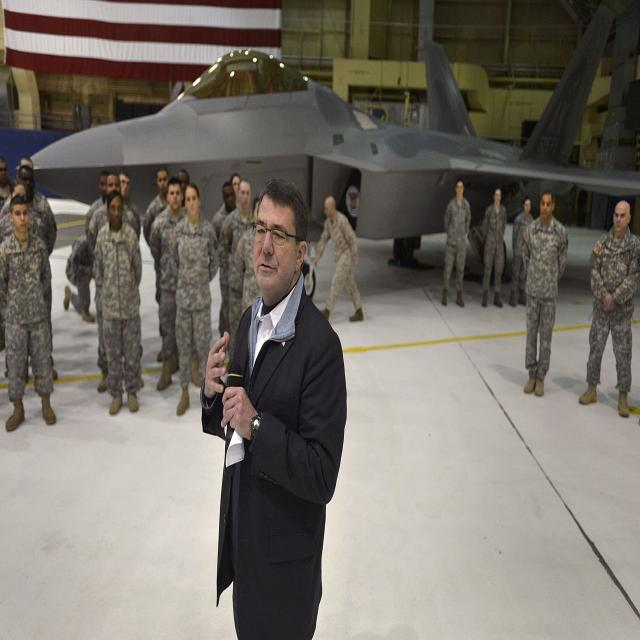MIL_Plane: (14, 1, 640, 298)
